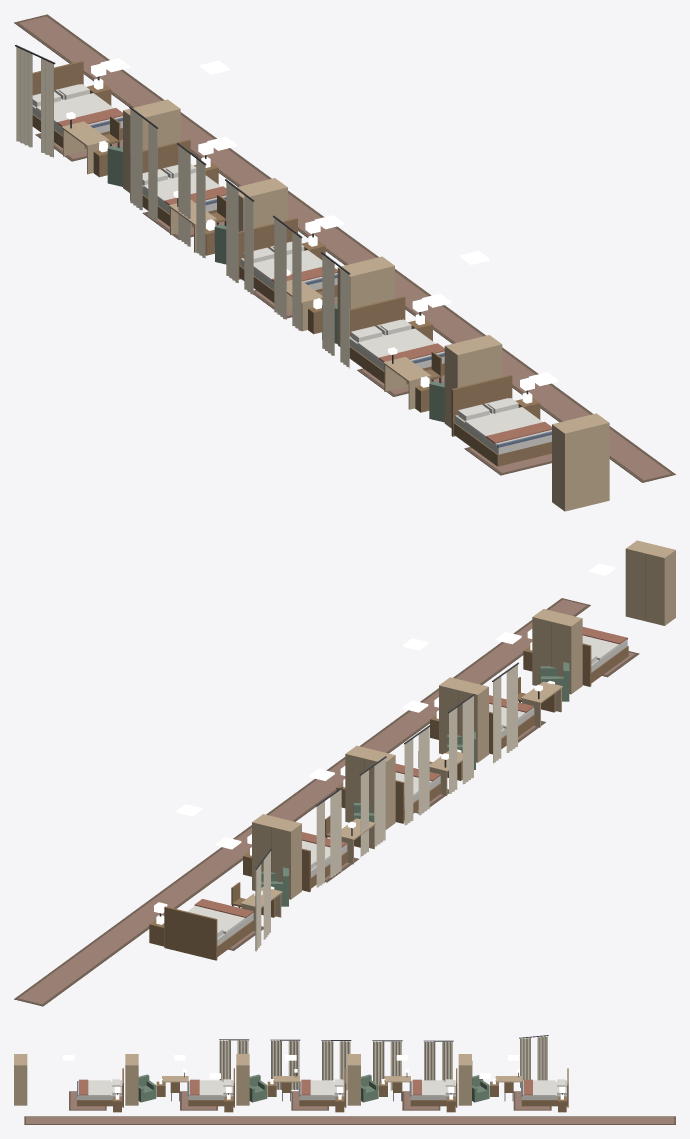
Rendered from fine-s2.glb.
3 renders of one model, top to bottom at view 1: azimuth 30°, elevation 25°; view 2: azimuth 150°, elevation 25°; view 3: azimuth 270°, elevation 25°, orthographic. The views are drawn at different scales.
Visible parts, largest first — view 1: soft-s2, dresser.009, bed-frame.009, dresser.008, bed-frame.008, dresser.007, dresser.005, dresser.006, bed-frame.007, bed-frame.005, bed-frame.006, writing-desk.007 (+2 smaller); view 2: soft-s2, dresser.009, dresser.008, dresser.005, bed-frame.005, dresser.007, dresser.006, bed-frame.009, writing-desk.007, bed-frame.007, bed-frame.006, writing-desk.005; view 3: soft-s2, dresser.005, dresser.006, dresser.007, dresser.008, dresser.009, bed-frame.007, bed-frame.006, bed-frame.005, bed-frame.008, bed-frame.009, lounge-chair.006 (+11 smaller).
Boxes of the visible parts, x1=… form: soft-s2: x1=14, y1=14, x2=675, y2=482; dresser.009: x1=552, y1=413, x2=609, y2=511; bed-frame.009: x1=451, y1=374, x2=551, y2=466; dresser.008: x1=444, y1=335, x2=502, y2=428; bed-frame.008: x1=349, y1=296, x2=444, y2=384; dresser.007: x1=337, y1=256, x2=394, y2=346; dresser.005: x1=123, y1=99, x2=180, y2=192; dresser.006: x1=237, y1=178, x2=287, y2=231; bed-frame.007: x1=238, y1=217, x2=337, y2=302; bed-frame.005: x1=32, y1=61, x2=122, y2=148; bed-frame.006: x1=130, y1=139, x2=226, y2=227; writing-desk.007: x1=383, y1=347, x2=431, y2=409; soft-s2: x1=14, y1=598, x2=639, y2=1006; dresser.009: x1=625, y1=540, x2=675, y2=625; dresser.008: x1=532, y1=609, x2=582, y2=694; dresser.005: x1=252, y1=814, x2=301, y2=899; bed-frame.005: x1=164, y1=906, x2=254, y2=960; dresser.007: x1=439, y1=677, x2=488, y2=762; dresser.006: x1=345, y1=745, x2=395, y2=829; bed-frame.009: x1=582, y1=638, x2=628, y2=686; writing-desk.007: x1=521, y1=681, x2=562, y2=727; bed-frame.007: x1=395, y1=775, x2=441, y2=823; bed-frame.006: x1=302, y1=843, x2=347, y2=892; writing-desk.005: x1=341, y1=818, x2=375, y2=864; soft-s2: x1=24, y1=1035, x2=675, y2=1124; dresser.005: x1=458, y1=1054, x2=472, y2=1105; dresser.006: x1=347, y1=1054, x2=360, y2=1105; dresser.007: x1=236, y1=1054, x2=249, y2=1105; dresser.008: x1=125, y1=1054, x2=138, y2=1105; dresser.009: x1=14, y1=1054, x2=27, y2=1105; bed-frame.007: x1=299, y1=1068, x2=346, y2=1107; bed-frame.006: x1=410, y1=1068, x2=457, y2=1107; bed-frame.005: x1=521, y1=1068, x2=568, y2=1107; bed-frame.008: x1=188, y1=1068, x2=234, y2=1107; bed-frame.009: x1=77, y1=1068, x2=123, y2=1107; lounge-chair.006: x1=249, y1=1074, x2=267, y2=1102.
Size of the model in its own units: 4.17 by 2.51 by 29.7.
